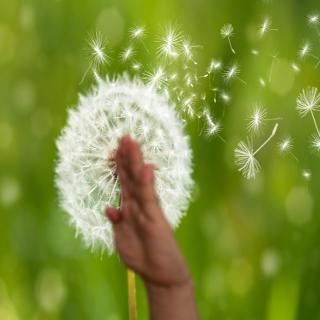RIGHT: (99, 133, 189, 285)
